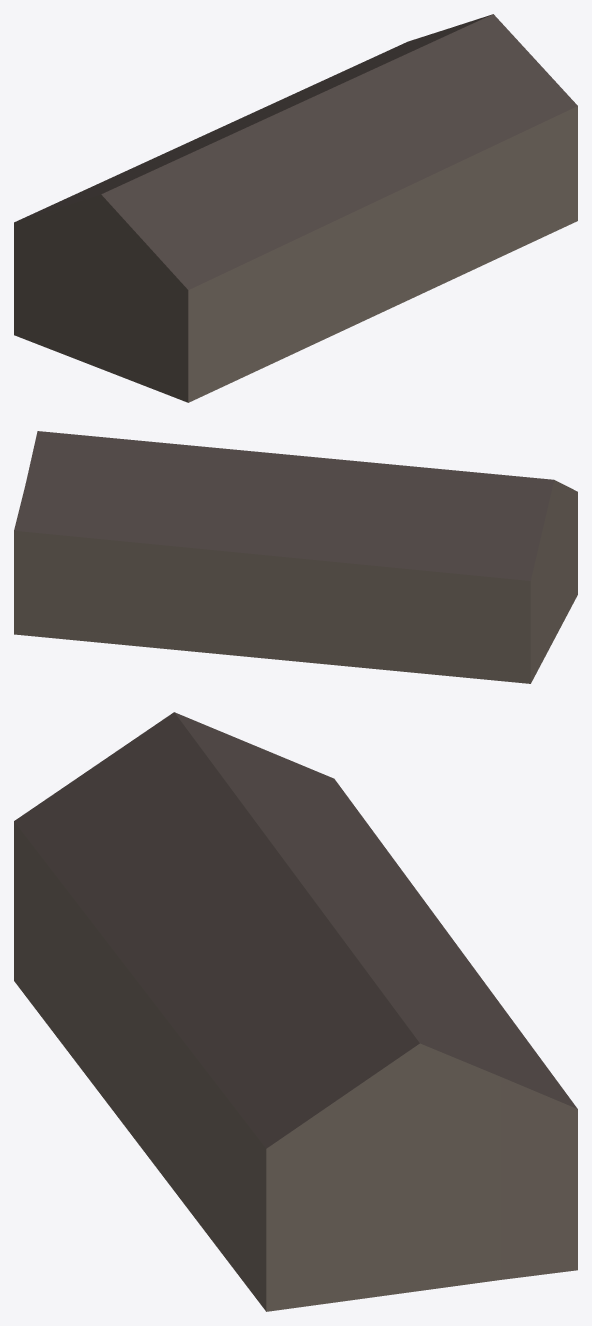
3 renders of one model, top to bottom at view 1: azimuth 30°, elevation 25°; view 2: azimuth 150°, elevation 25°; view 3: azimuth 270°, elevation 25°, orthographic. The views are drawn at different scales.
Visible parts, largest first — view 1: HP-w1376988764; view 2: HP-w1376988764; view 3: HP-w1376988764.
Boxes of the visible parts, x1=… form: HP-w1376988764: x1=14, y1=14, x2=577, y2=402; HP-w1376988764: x1=14, y1=431, x2=577, y2=683; HP-w1376988764: x1=14, y1=712, x2=577, y2=1311.
Bounding box in the file's own units: 30.09 × 9.3 × 19.2.
